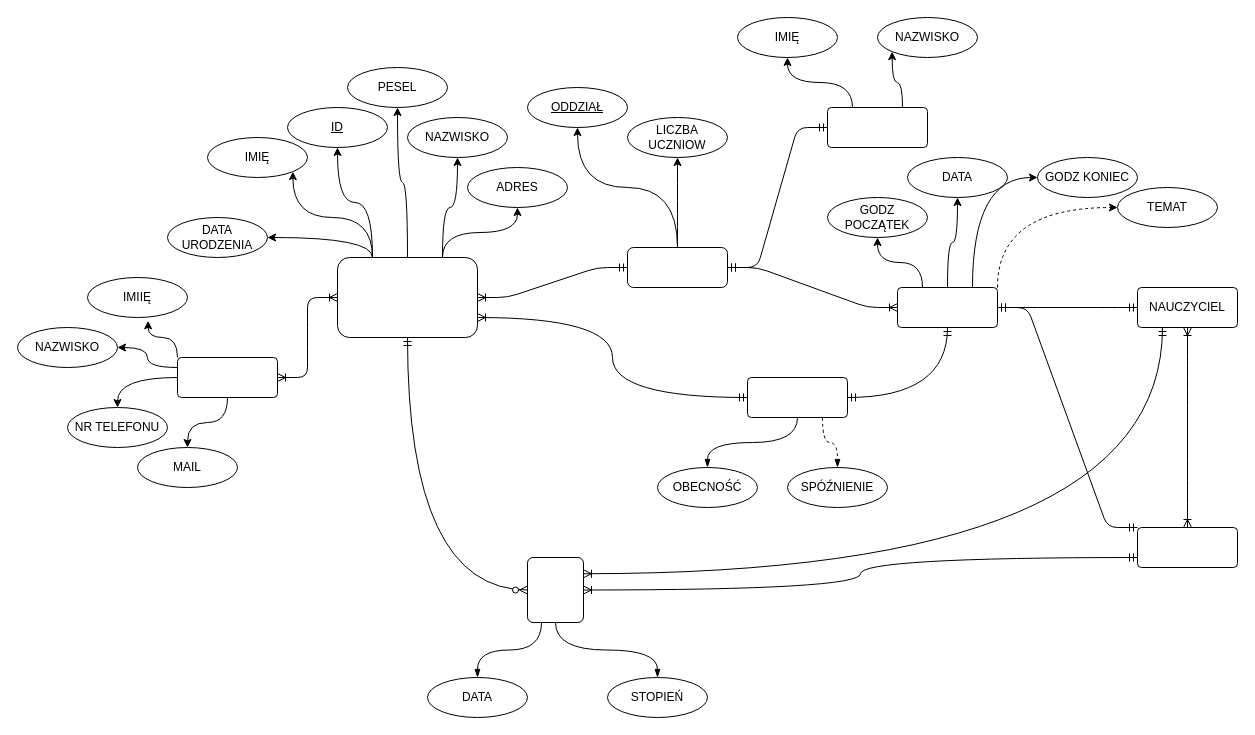
This 1255x735 diagram has some shape labels left out. The box of each missing label's shape, as (x1, y1, x2, y2) in pixels:
KLASA: (626, 246, 728, 288)
LEKCJA: (896, 286, 998, 328)
LISTA OBECNOŚCI: (746, 376, 848, 418)
OCENA: (526, 556, 584, 622)
PRZEDMIOT: (1136, 526, 1238, 568)
RODZIC: (176, 356, 278, 398)
UCZEŃ: (336, 256, 478, 338)
WYCHOWAWCA: (826, 106, 928, 148)
